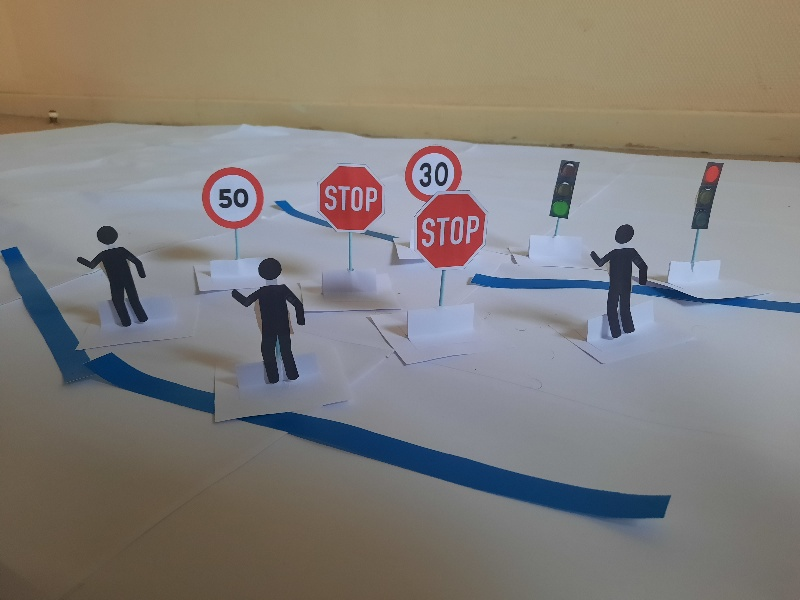Green: (547, 156, 580, 221)
Limit 30: (404, 144, 462, 198)
Limit 50: (201, 166, 266, 228)
Person: (231, 258, 311, 388), (76, 221, 150, 329), (589, 223, 650, 337)
Red: (691, 160, 725, 232)
Stop: (412, 190, 487, 269), (316, 162, 387, 235)
